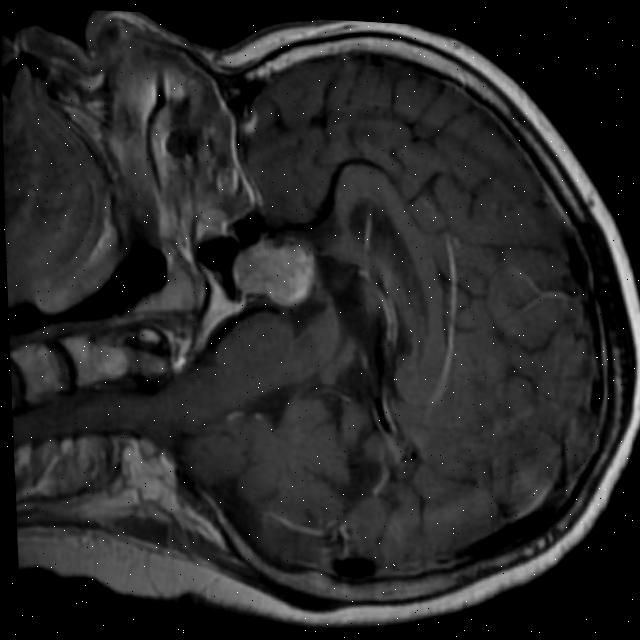Pituitary: (229, 235, 315, 307)
